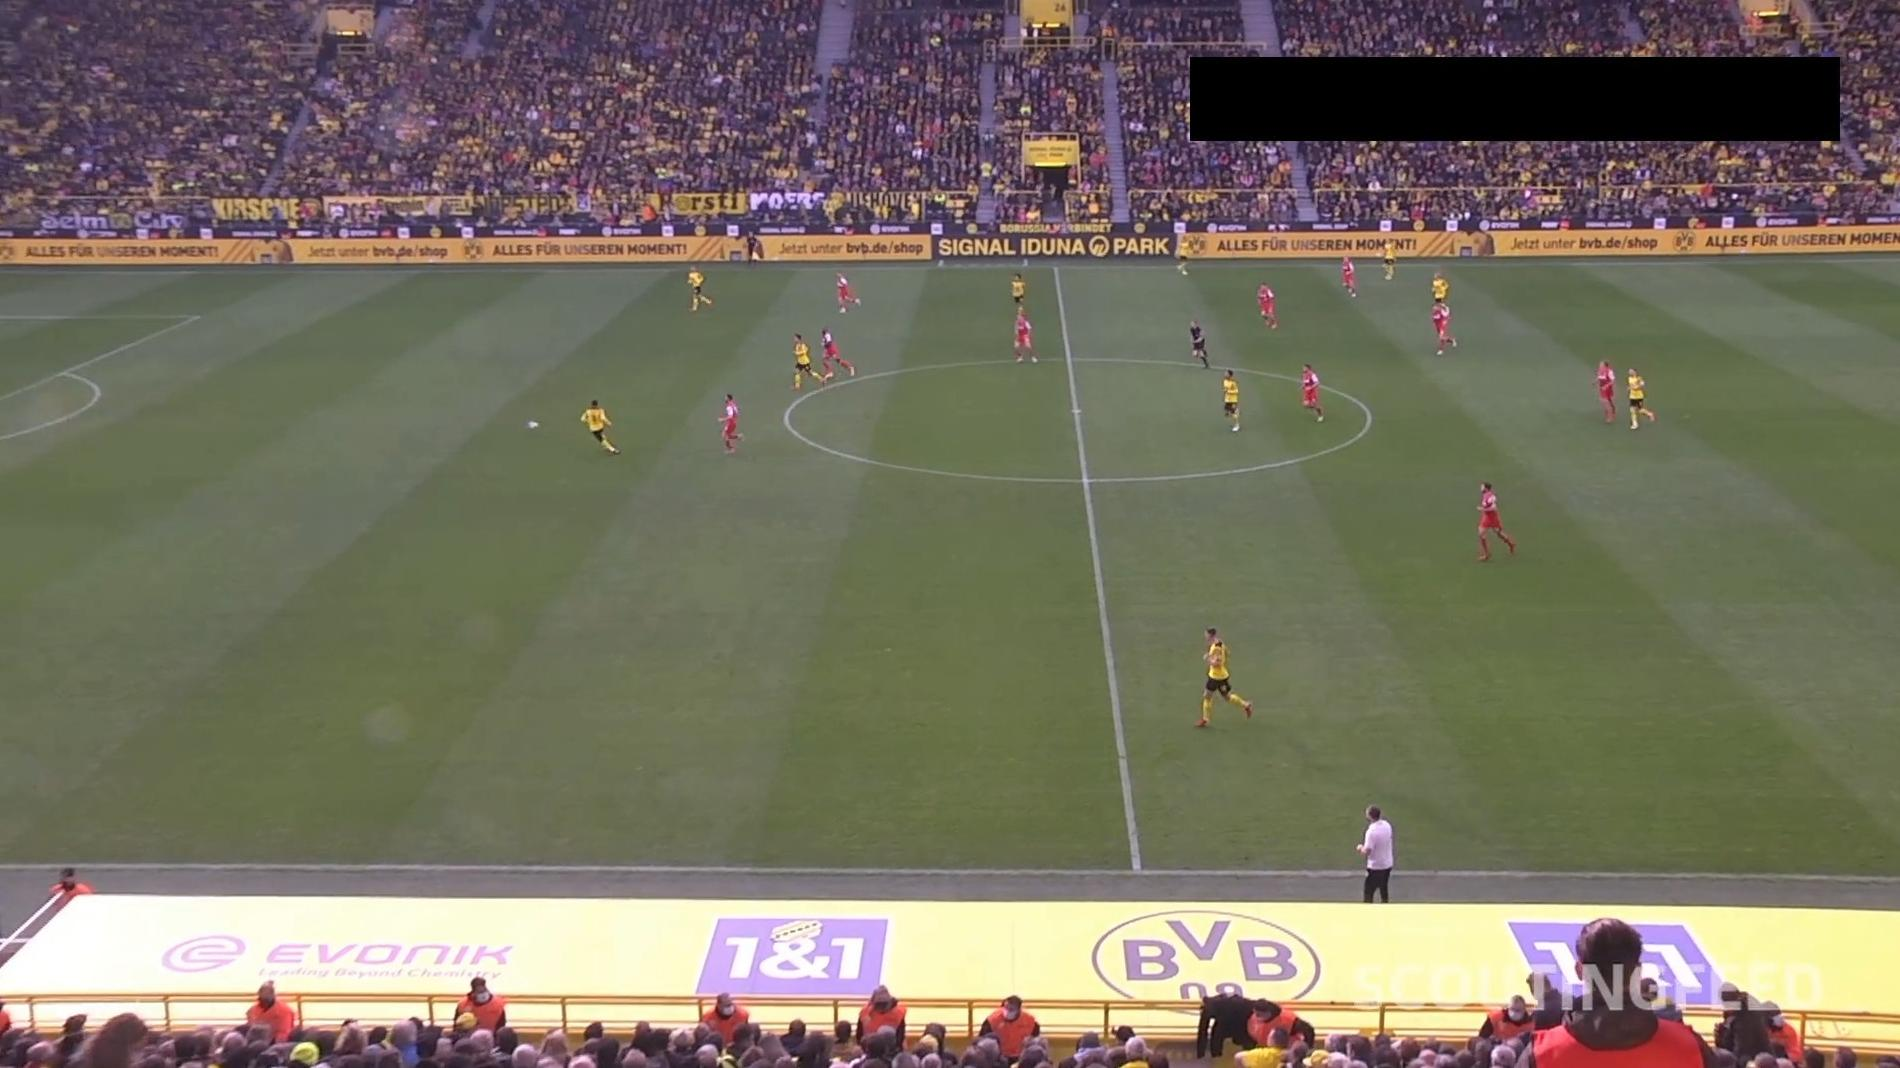ball: (526, 419, 540, 431)
